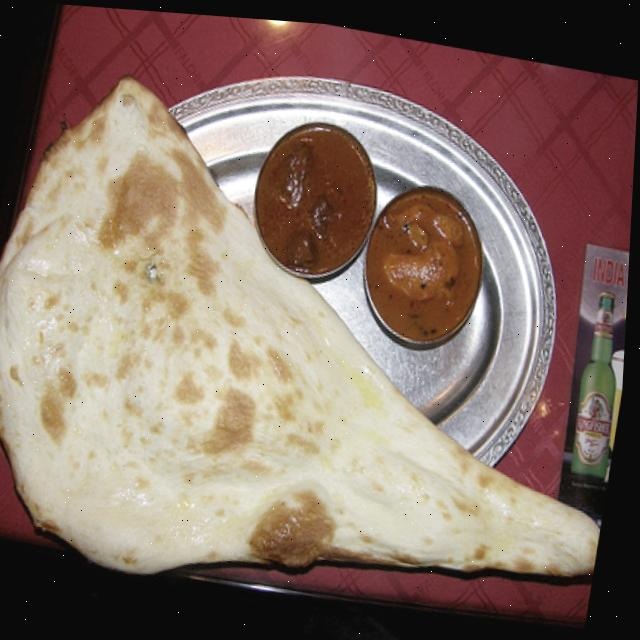牛肉菜式: (238, 96, 396, 279), (349, 162, 495, 350)
